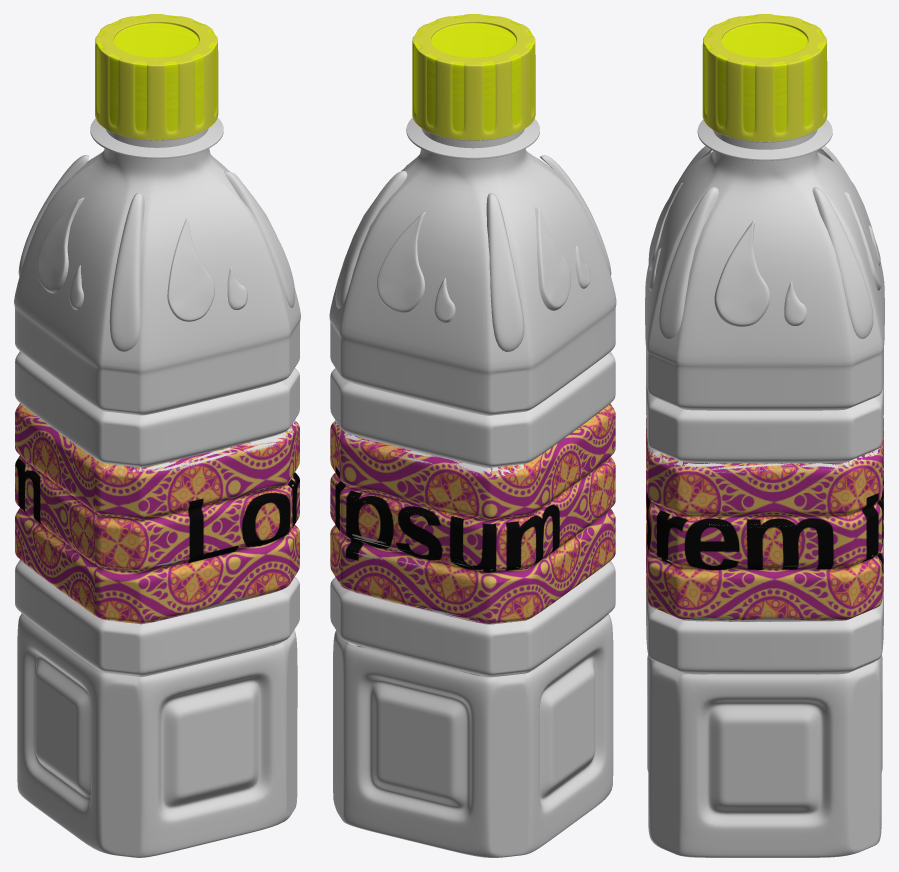
The model's file is 02.oil CrimsonMockup.glb.
3 views of the same model, side by side, from view 1: azimuth 30°, elevation 25°; view 2: azimuth 150°, elevation 25°; view 3: azimuth 270°, elevation 25° (orthographic).
Parts seen in each view (by area): view 1: Plane.003, Plane.006, Circle.001; view 2: Plane.003, Plane.006, Circle.001; view 3: Plane.003, Plane.006, Circle.001.
Part boxes in pixels (left/top/right/bottom): Plane.003: left=14, top=118, right=300, bottom=857; Plane.006: left=15, top=403, right=299, bottom=624; Circle.001: left=95, top=14, right=218, bottom=140; Plane.003: left=329, top=118, right=616, bottom=857; Plane.006: left=330, top=403, right=615, bottom=624; Circle.001: left=412, top=14, right=535, bottom=140; Plane.003: left=645, top=119, right=884, bottom=857; Plane.006: left=646, top=418, right=883, bottom=621; Circle.001: left=702, top=14, right=827, bottom=141.
Size of the model in its own units: 0.044 by 0.1569 by 0.044.
Materials: 4 (1 with a texture image).
